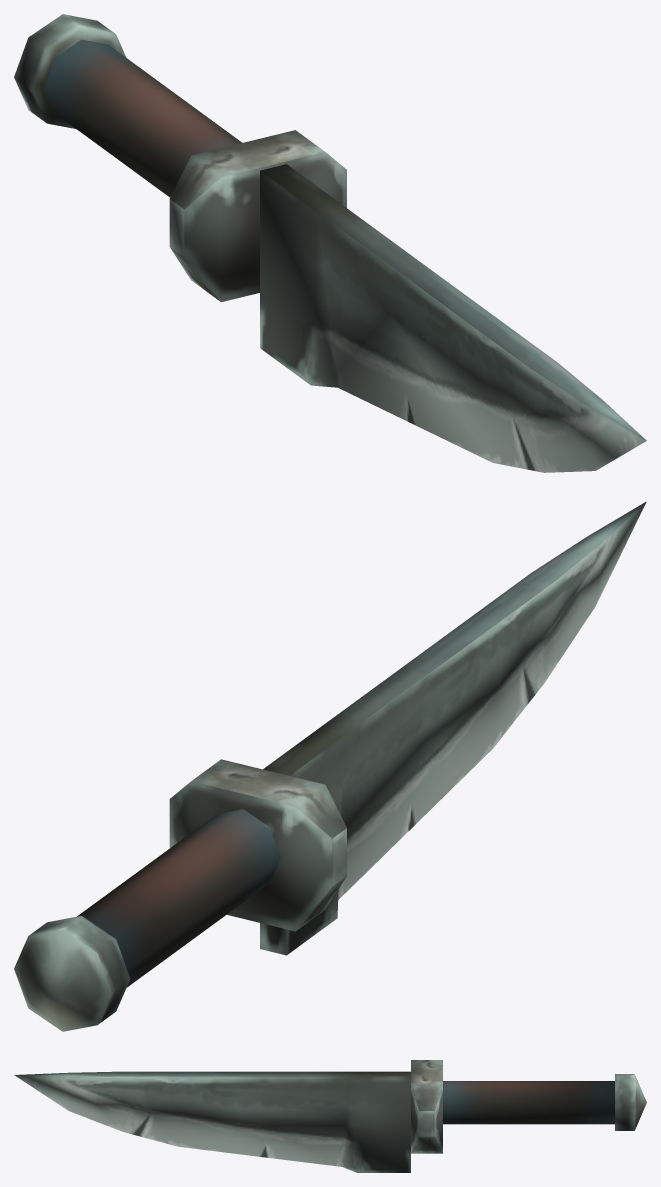
File: knife_01.fbx
3 views of the same model, one above another, from view 1: azimuth 30°, elevation 25°; view 2: azimuth 150°, elevation 25°; view 3: azimuth 270°, elevation 25° (orthographic). The views are drawn at different scales.
Parts seen in each view (by area): view 1: knife_01; view 2: knife_01; view 3: knife_01.
Boxes of the visible parts, x1,y1,x2,y2 form: knife_01: (14, 14, 646, 472); knife_01: (14, 501, 646, 1031); knife_01: (14, 1060, 646, 1172).
Bounding box in the file's own units: 15.06 × 15.95 × 95.53.
Materials: 1 (1 with a texture image).
